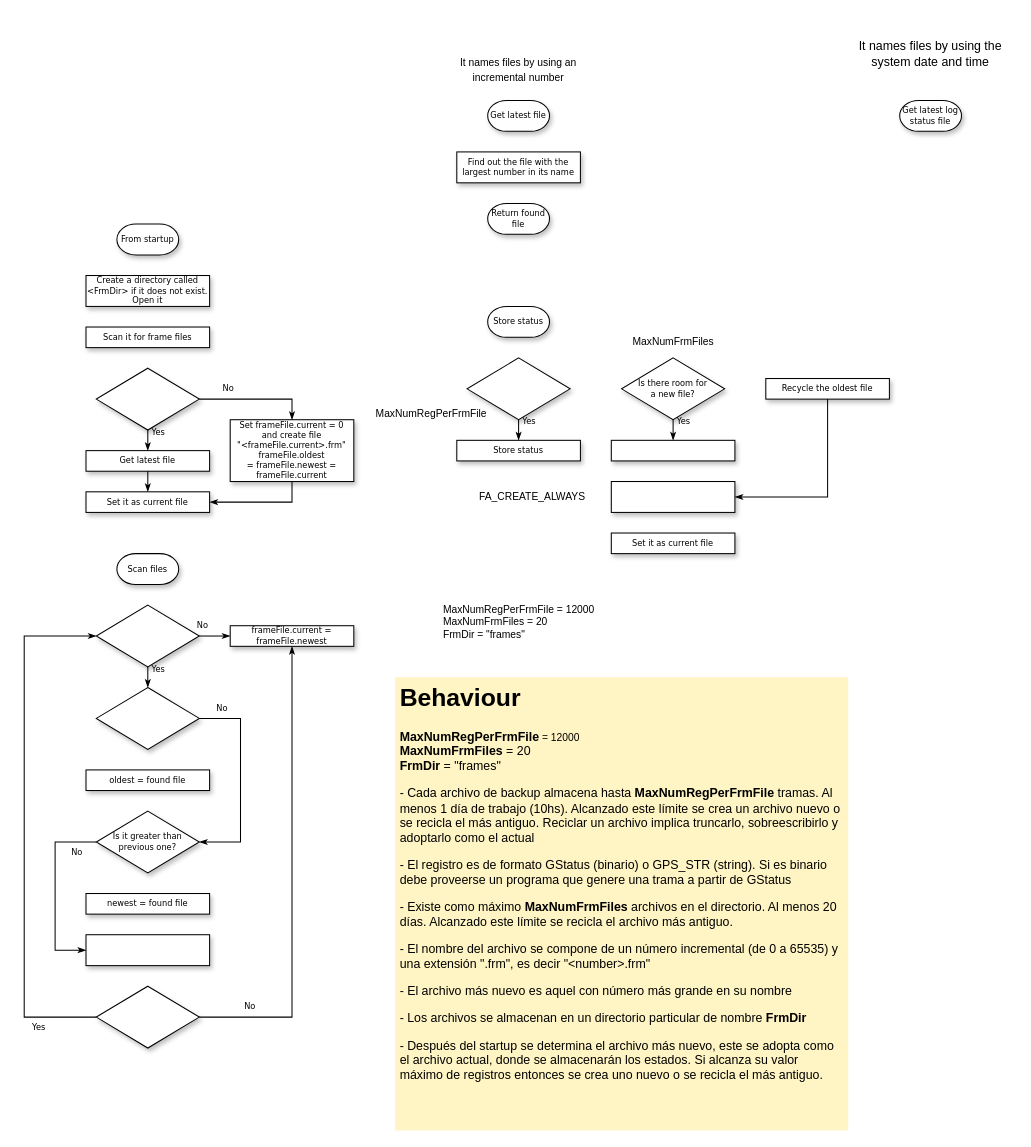
Image size: 1031x1147. Some labels were removed from this diagram. Here are the shapes that lost their labels. From the top down, the centre of each, then its label:
point (148, 400): Is there any file?
point (519, 390): Is there room?
point (673, 451): ++currFile.number
point (673, 498): Create a new file named "<currFile.number>.frm"
point (148, 637): Are there more files?
point (148, 719): Is it smaller than previous one?
point (148, 951): frameFile.newest = newest frameFile.oldest = oldest
point (148, 1018): Is number of files less than allowed one?
